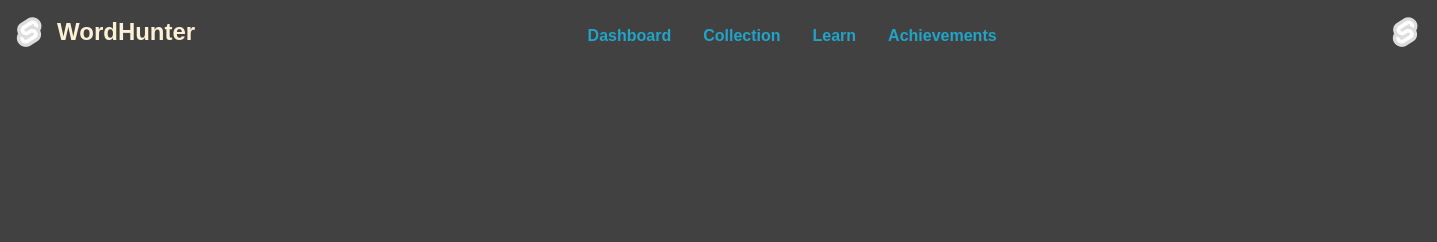
Test: NavBar component › should toggle user dropdown menu
The image size is (1437, 242).
Expected: the text "Login" is not shown
Click the button named "open user menu" at {"x": 1405, "y": 32}, box 1389,16 -> 1421,48
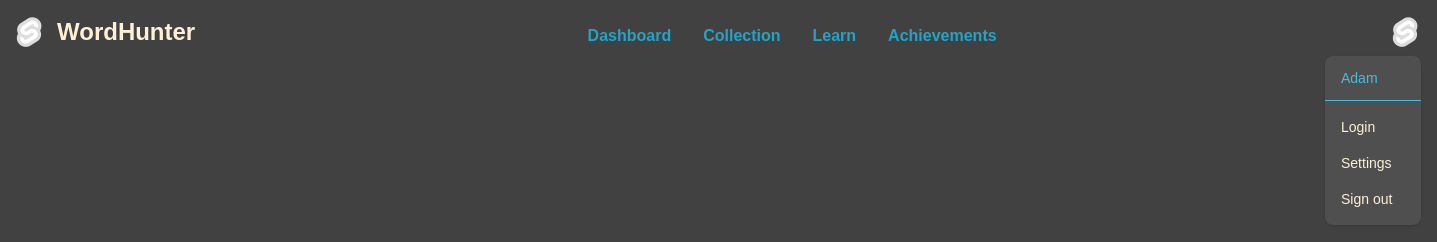
Expected: the link "Login" is shown, 1341,119 -> 1375,135
Click the button named "open user menu" at {"x": 1405, "y": 32}, box 1389,16 -> 1421,48
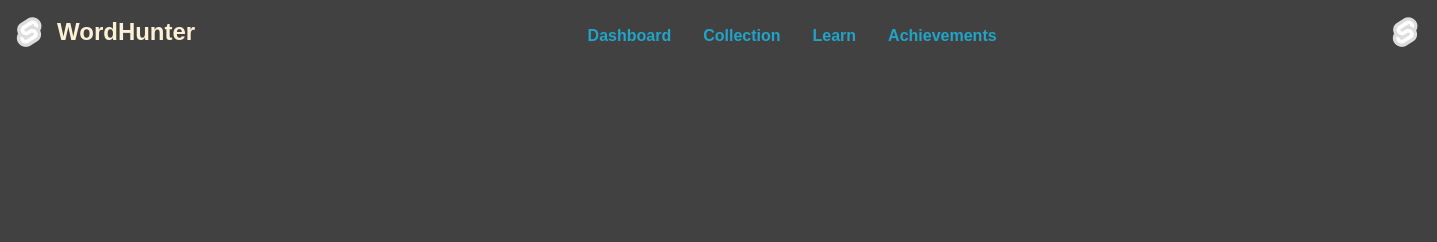
Expected: the link "Login" is gone
